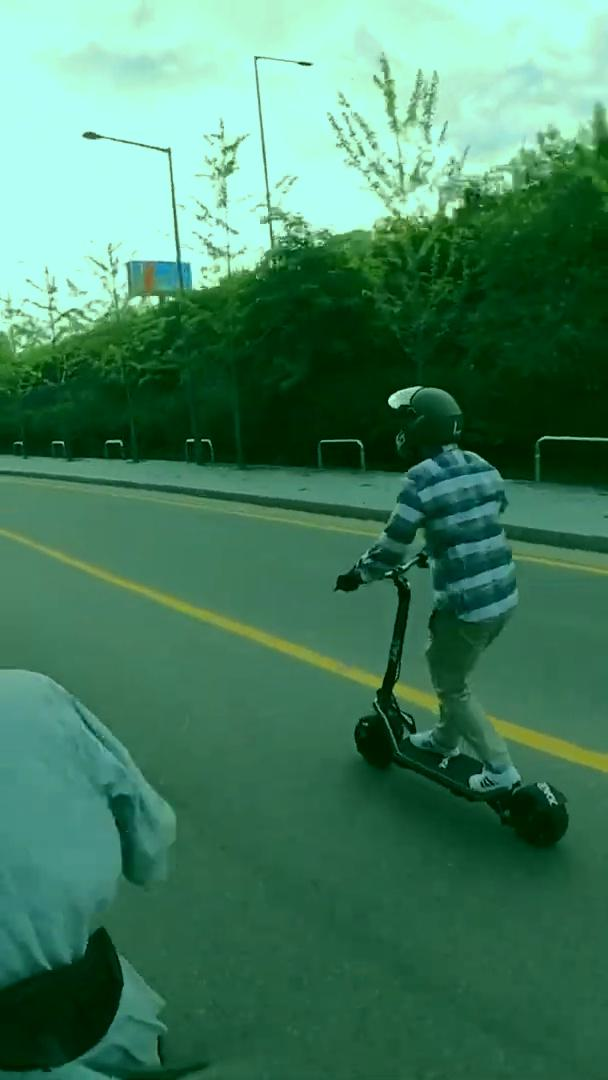helmet: (328, 383, 572, 851)
